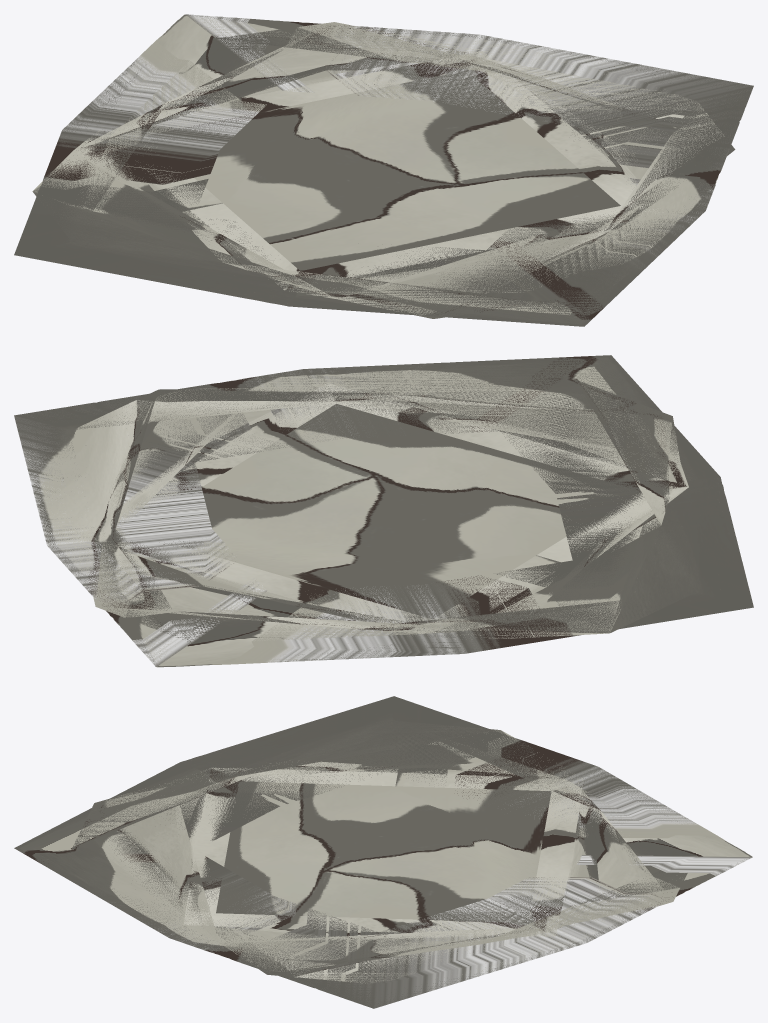
File: earthspellpillarV2.fbx
3 views of the same model, one above another, from view 1: azimuth 30°, elevation 25°; view 2: azimuth 150°, elevation 25°; view 3: azimuth 270°, elevation 25° (orthographic). The views are drawn at different scales.
Visible parts, largest first — view 1: Earth Spell Pillar; view 2: Earth Spell Pillar; view 3: Earth Spell Pillar.
Part boxes in pixels (box(x1,y1,x2,y2)): Earth Spell Pillar: box(14, 14, 753, 326); Earth Spell Pillar: box(14, 355, 753, 667); Earth Spell Pillar: box(14, 696, 752, 1008).
Bounding box in the file's own units: 335 × 2.17e-05 × 335.
